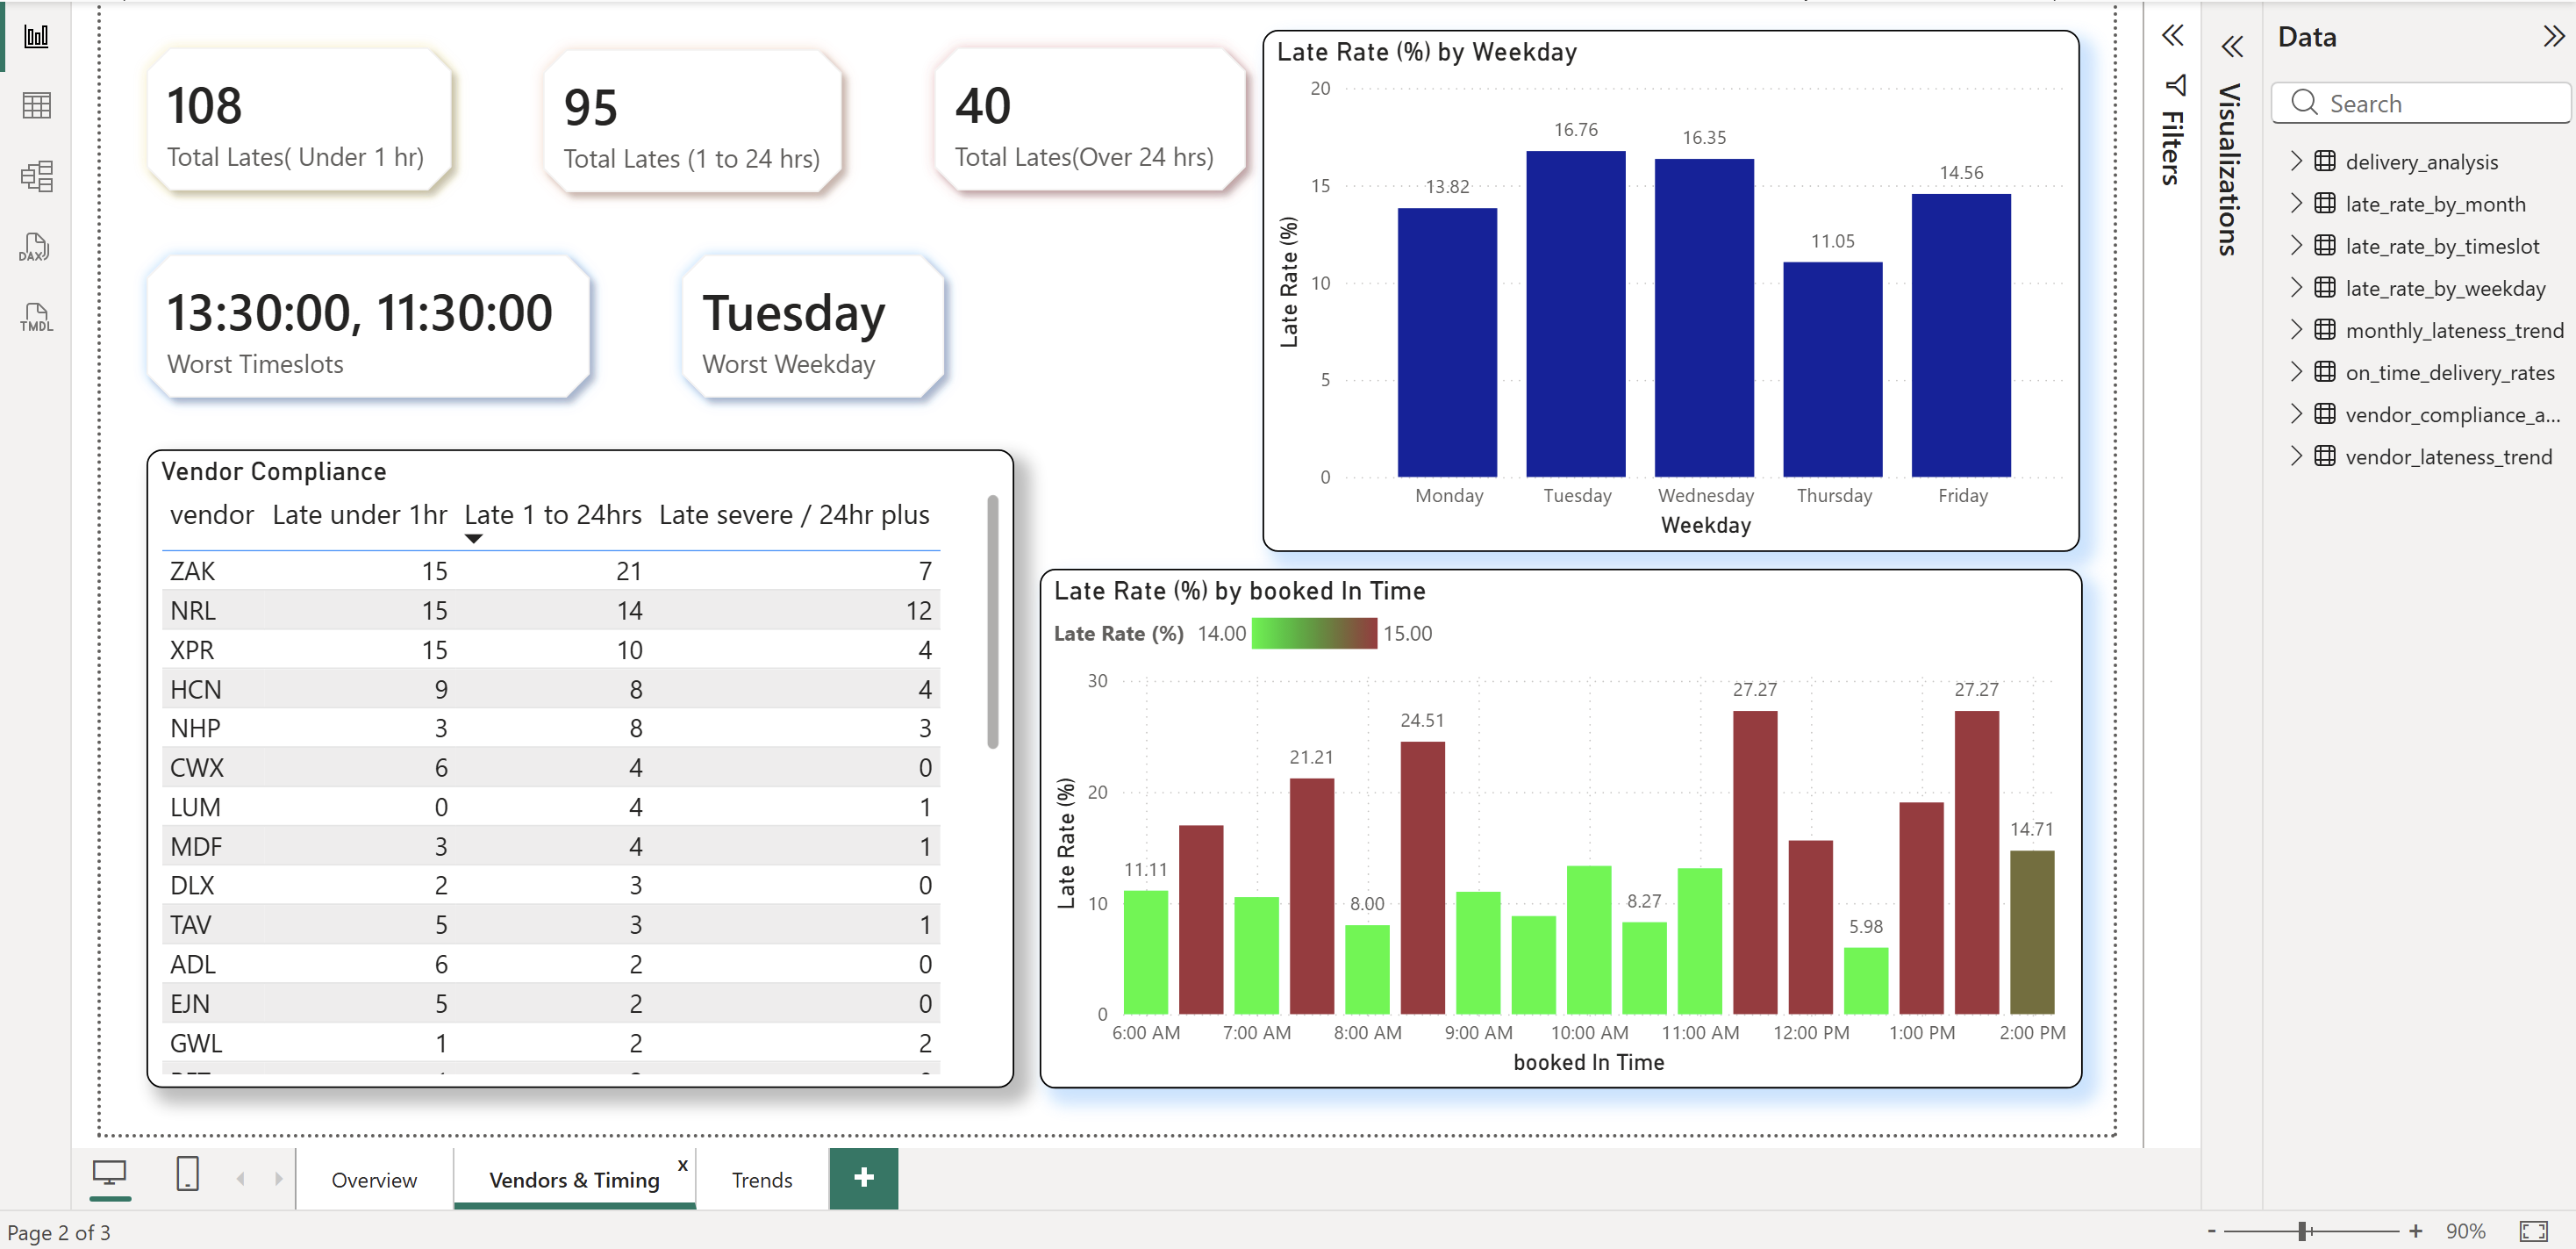

Layout of this report page (visuals, bound fields, positions):
{"tool":"powerbi","page":{"name":"Vendors & Timing","canvas":[1280,720],"ordinal":1},"visuals":[{"type":"cardVisual","fields":{"Data":["Sum(vendor_compliance_analysis.late_1_to_24hr)"]},"box":[252.4,1.3,248.6,149.9],"z":0},{"type":"cardVisual","fields":{"Data":["Sum(vendor_compliance_analysis.late_under_1hr)"]},"box":[0,0,252.4,149.9],"z":1000},{"type":"cardVisual","fields":{"Data":["Sum(vendor_compliance_analysis.late_severe_24hr_plus)"]},"box":[501,0,256.3,149.9],"z":2000},{"type":"cardVisual","fields":{"Data":["delivery_analysis.Worst Timeslot"]},"box":[0,132,340.8,149.9],"z":3000},{"type":"cardVisual","fields":{"Data":["delivery_analysis.Worst Weekday"]},"box":[340.8,132,225.5,149.9],"z":4000},{"type":"tableEx","title":"Vendor Compliance","fields":{"Values":["vendor_compliance_analysis.vendor","Sum(vendor_compliance_analysis.late_under_1hr)","Sum(vendor_compliance_analysis.late_1_to_24hr)","Sum(vendor_compliance_analysis.late_severe_24hr_plus)"]},"box":[29.5,284.4,552.2,406.2],"z":5000},{"type":"clusteredColumnChart","fields":{"Category":["late_rate_by_weekday.weekday_name"],"Y":["Sum(late_rate_by_weekday.late_rate)"]},"box":[739.3,17.9,520.2,331.9],"z":6000},{"type":"clusteredColumnChart","fields":{"Category":["late_rate_by_timeslot.booked_in_time"],"Y":["Sum(late_rate_by_timeslot.late_rate)"]},"box":[597.1,360,663.7,330.6],"z":7000}]}

Visuals, with their boxes on the page's 1280x720 design canvas (x1, y1, x2, y2). These are canvas units, not pixel positions in the 2576x1249 screenshot, which may show the page scaled, cropped or inside an application window:
cardVisual - Sum(vendor_compliance_analysis.late_1_to_24hr): <box>252,1,501,151</box>
cardVisual - Sum(vendor_compliance_analysis.late_under_1hr): <box>0,0,252,150</box>
cardVisual - Sum(vendor_compliance_analysis.late_severe_24hr_plus): <box>501,0,757,150</box>
cardVisual - delivery_analysis.Worst Timeslot: <box>0,132,341,282</box>
cardVisual - delivery_analysis.Worst Weekday: <box>341,132,566,282</box>
"Vendor Compliance" tableEx: <box>30,284,582,691</box>
clusteredColumnChart - late_rate_by_weekday.weekday_name x Sum(late_rate_by_weekday.late_rate): <box>739,18,1260,350</box>
clusteredColumnChart - late_rate_by_timeslot.booked_in_time x Sum(late_rate_by_timeslot.late_rate): <box>597,360,1261,691</box>
